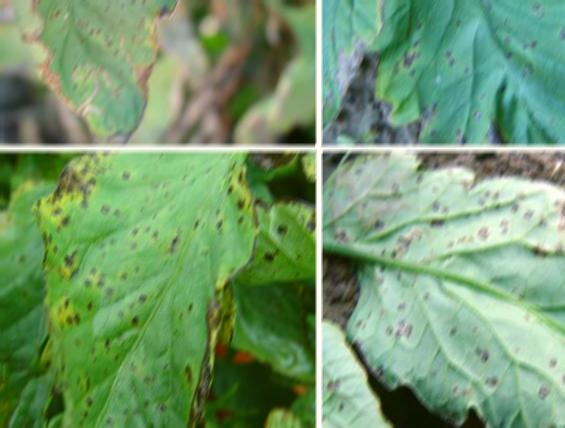Tomato leaf bacterial spot: (32, 149, 276, 428), (339, 157, 565, 428), (12, 0, 201, 143), (381, 0, 565, 140)
